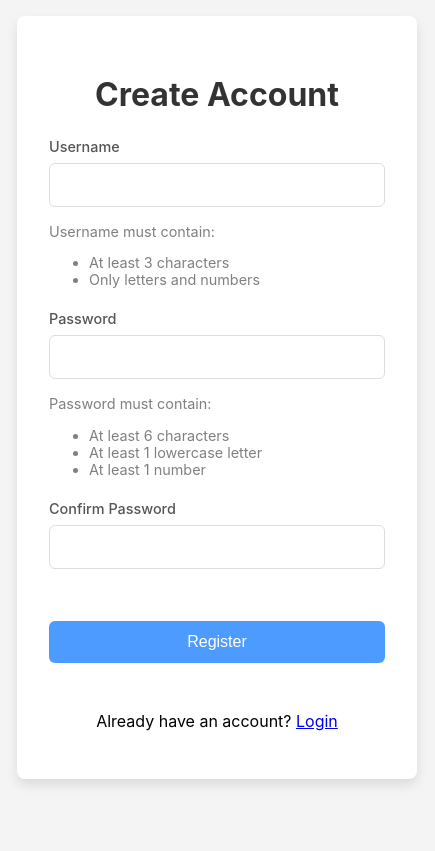
Test: Register page tests › should show error if username contains non-alphanumeric characters
In the field labelled "Username": {"x": 217, "y": 184} [49,162,385,206], type "user@name"
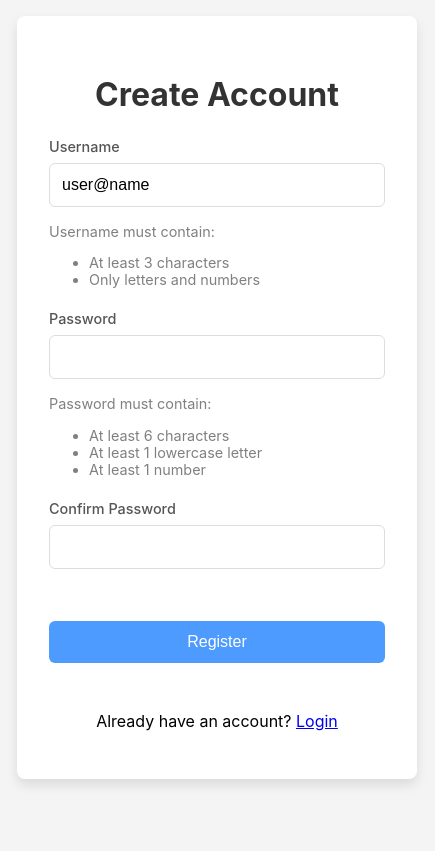
In the password field with test id "password": {"x": 217, "y": 357} [49,335,385,379], type "Password123!"
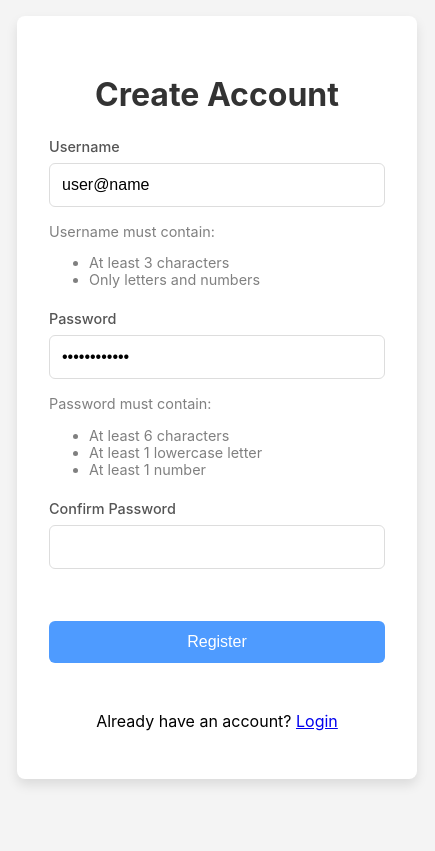
In the password field labelled "Confirm Password": {"x": 217, "y": 547} [49,525,385,569], type "Password123!"
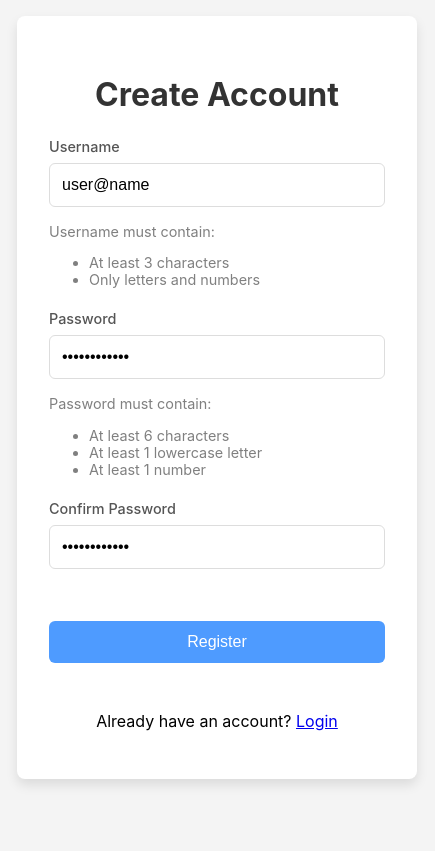
Click the button "Register": {"x": 217, "y": 642} [49,621,385,663]
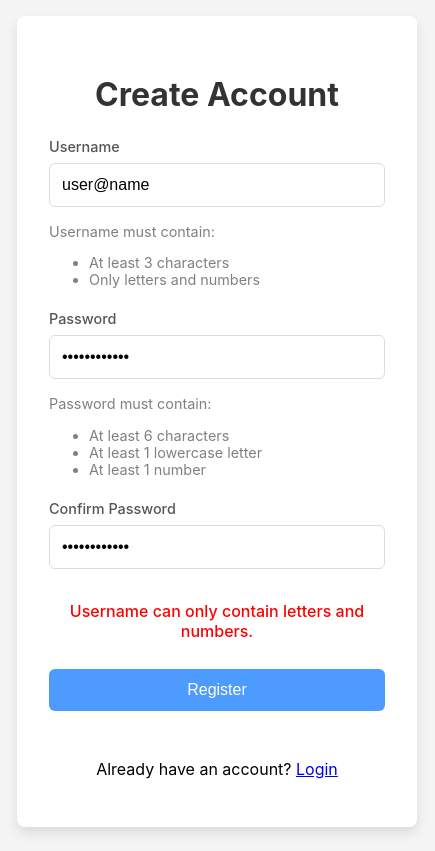
Check: the text "Username can only contain letters and numbers." is shown, box [49,601,385,641]
